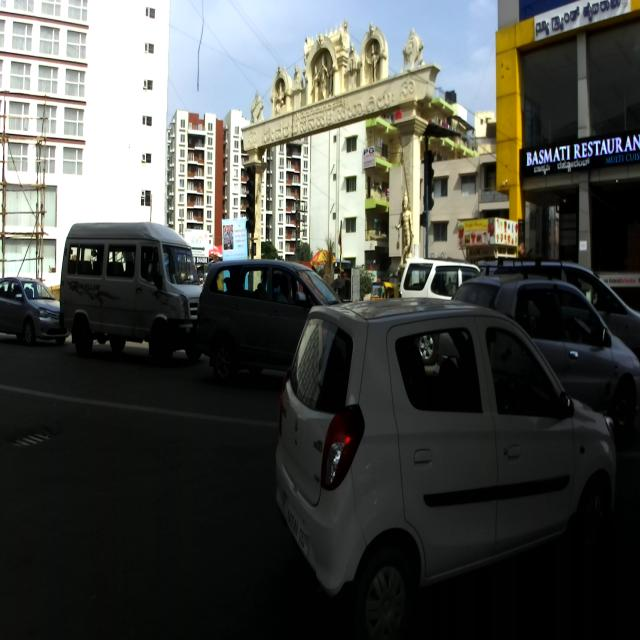bus ahead at: (61, 220, 199, 370)
car ahead at: (278, 295, 619, 630)
